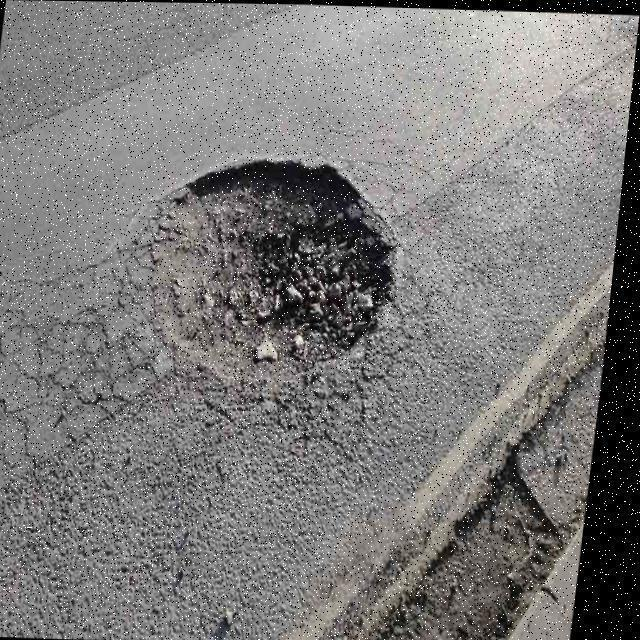Pothole: (133, 154, 405, 385)
